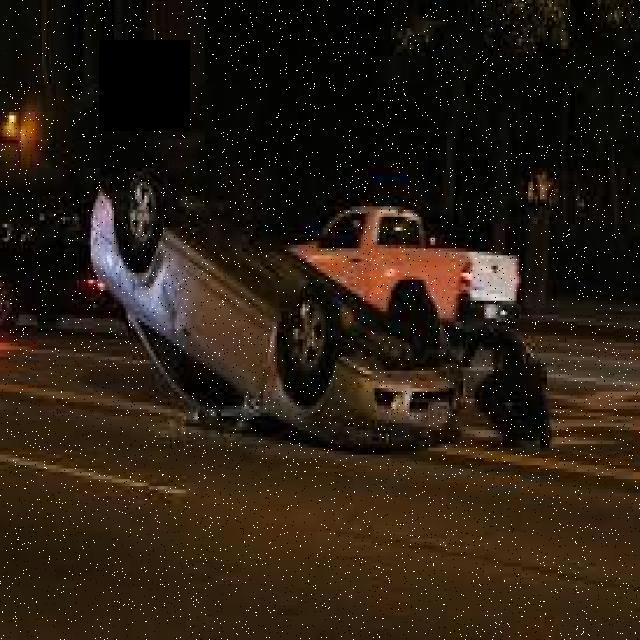severe: (86, 160, 456, 444)
